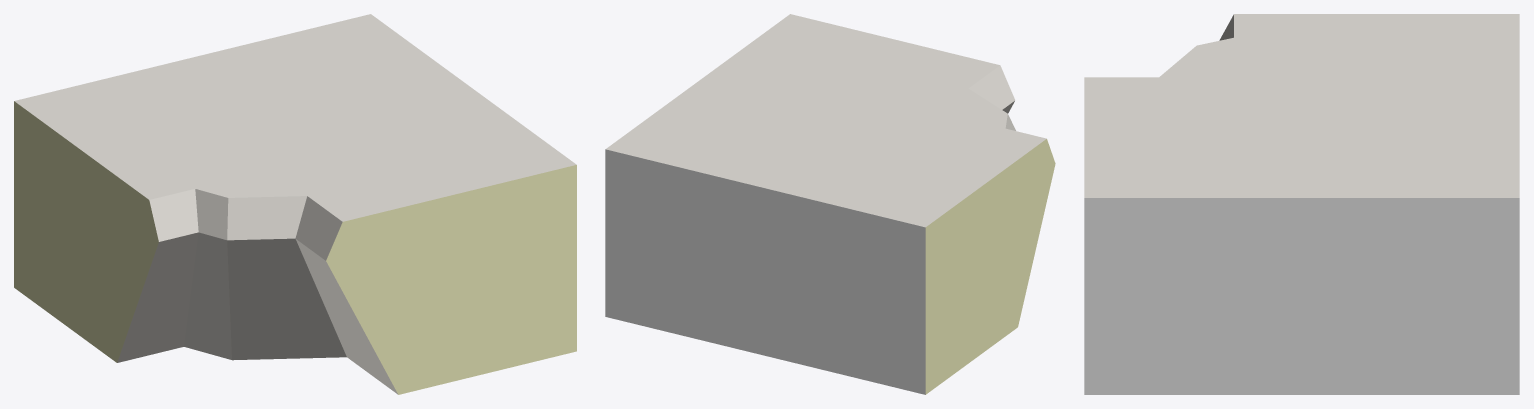
Rendered from Cracked_Curve_Inner_2x2_1_Top.glb.
The picture shows the model from 3 angles, left to right: view 1: azimuth 30°, elevation 25°; view 2: azimuth 150°, elevation 25°; view 3: azimuth 270°, elevation 25°; orthographic projection. The views are drawn at different scales.
Visible parts, largest first — view 1: Cracked_Curve_Inner_2x2_1_Top; view 2: Cracked_Curve_Inner_2x2_1_Top; view 3: Cracked_Curve_Inner_2x2_1_Top.
Boxes of the visible parts, x1=… form: Cracked_Curve_Inner_2x2_1_Top: x1=14, y1=14, x2=576, y2=394; Cracked_Curve_Inner_2x2_1_Top: x1=605, y1=14, x2=1055, y2=394; Cracked_Curve_Inner_2x2_1_Top: x1=1084, y1=14, x2=1519, y2=394.
Bounding box in the file's own units: 200 × 100 × 200.
